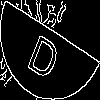D: (25, 24, 66, 82)
